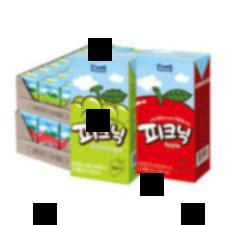picnic_apple: (136, 49, 204, 186)
